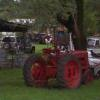Tractor: (15, 23, 100, 96)
